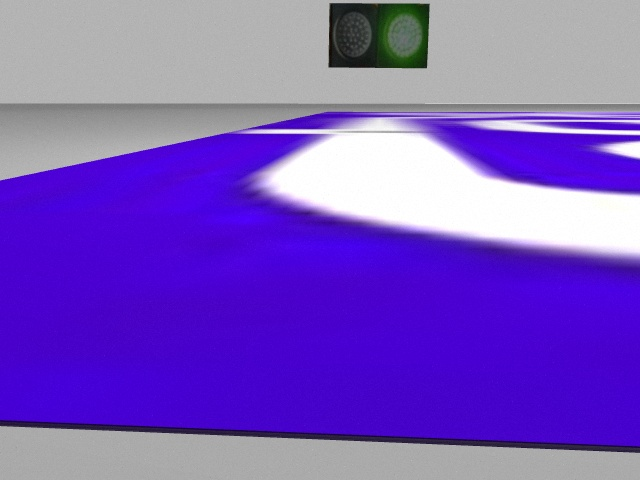green: (379, 5, 429, 69)
